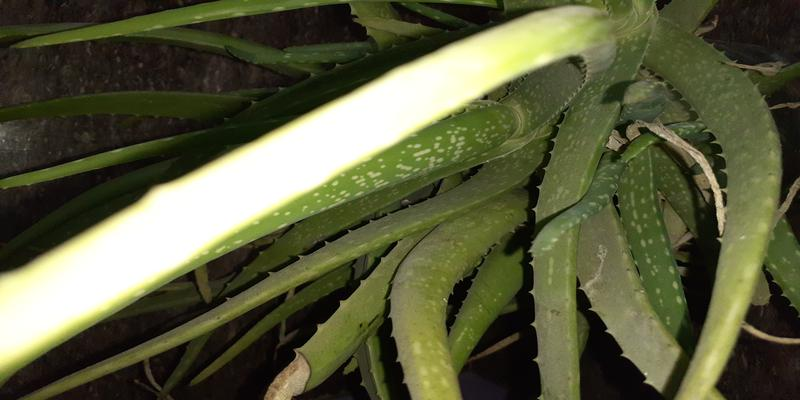Aloevera: (243, 32, 771, 348)
